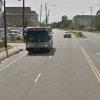Bus: (21, 20, 59, 60)
